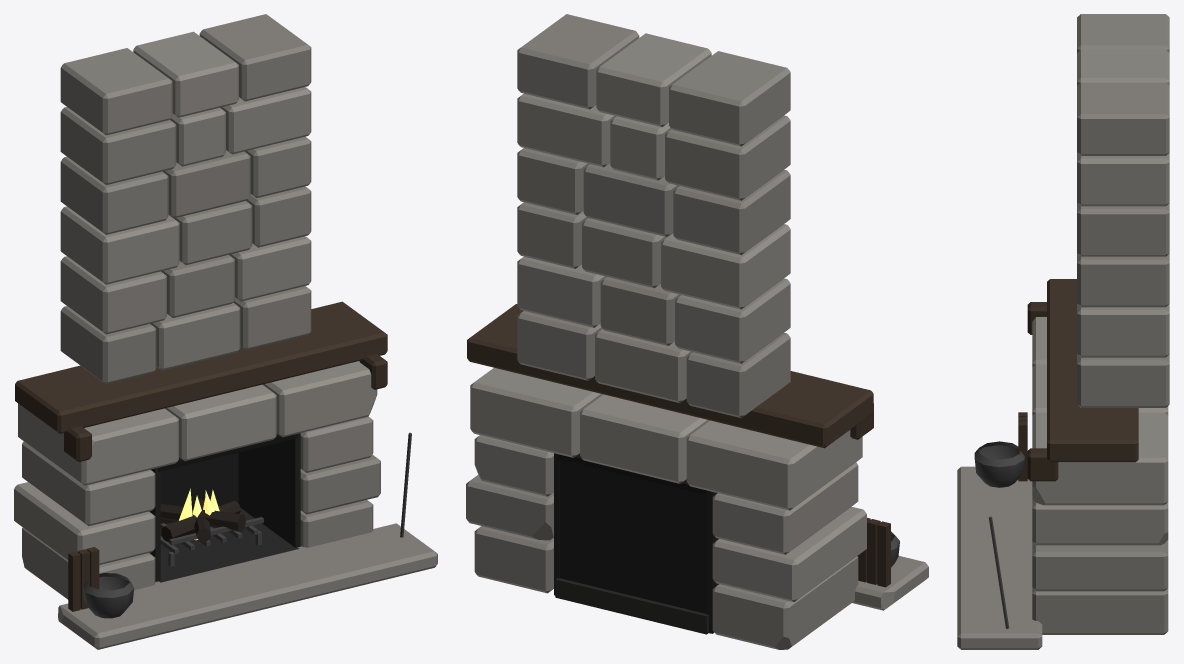
The model's file is fireplace.glb.
The picture shows the model from 3 angles, left to right: view 1: azimuth 30°, elevation 25°; view 2: azimuth 150°, elevation 25°; view 3: azimuth 270°, elevation 25°; orthographic projection. The views are drawn at different scales.
Parts seen in each view (by area): view 1: fireplace; view 2: fireplace; view 3: fireplace.
Part boxes in pixels (x1,y1,x2,y2): fireplace: (14,14,437,649); fireplace: (466,14,928,649); fireplace: (957,14,1169,649).
Size of what is drawn, in the model's own units: 2.6 by 3.6 by 1.37.
